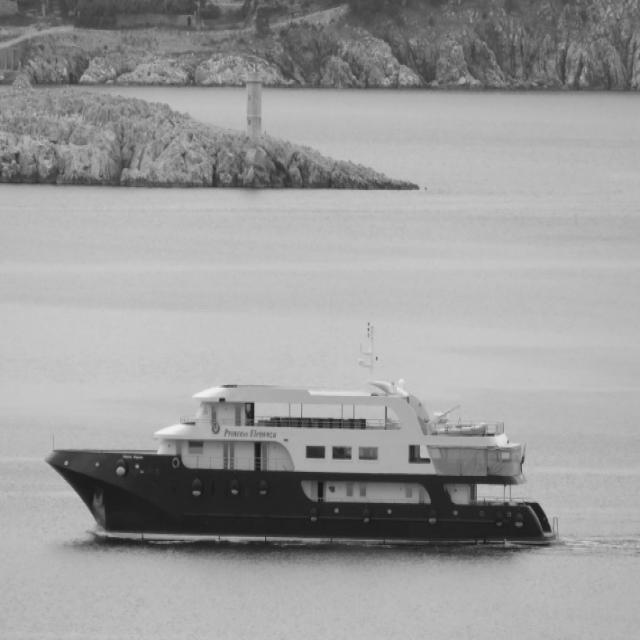cruises: (43, 363, 566, 561)
